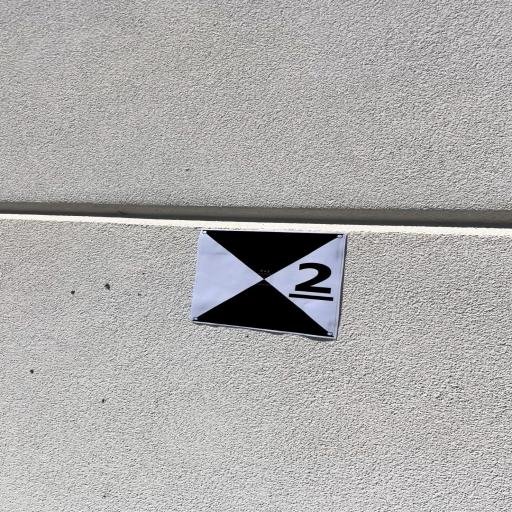target2: (187, 229, 348, 339)
